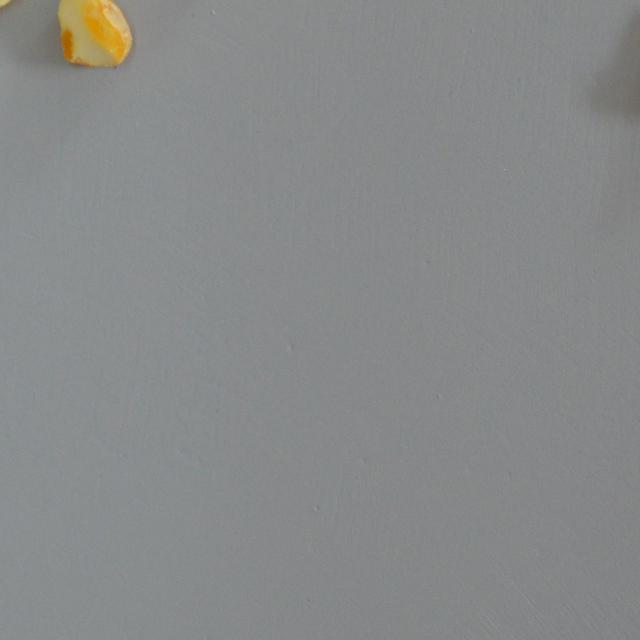pelicula: (55, 0, 133, 72)
